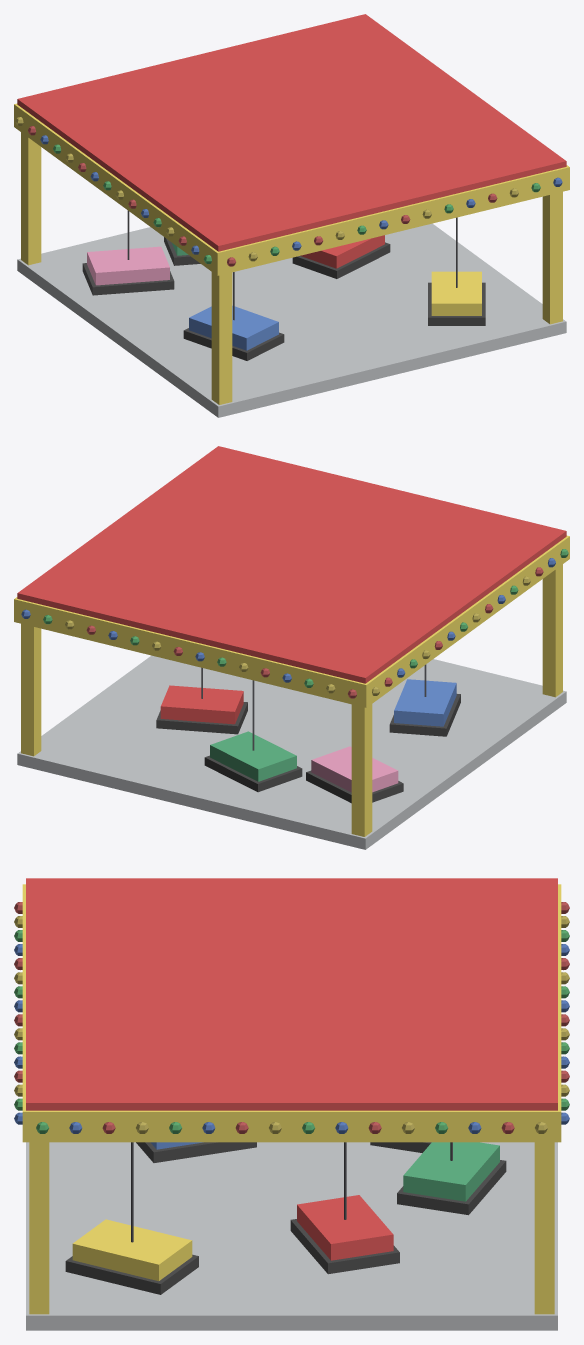
Rendered from VJ_CochesChoque.fbx.
3 renders of one model, top to bottom at view 1: azimuth 30°, elevation 25°; view 2: azimuth 150°, elevation 25°; view 3: azimuth 270°, elevation 25°, orthographic. The views are drawn at different scales.
Visible parts, largest first — view 1: VJ_CochesChoque; view 2: VJ_CochesChoque; view 3: VJ_CochesChoque.
Boxes of the visible parts, x1,y1,x2,y2 form: VJ_CochesChoque: (14,14,569,417); VJ_CochesChoque: (14,446,569,849); VJ_CochesChoque: (14,878,569,1330).
Size of the model in its own units: 8.33 by 3.77 by 8.36.
